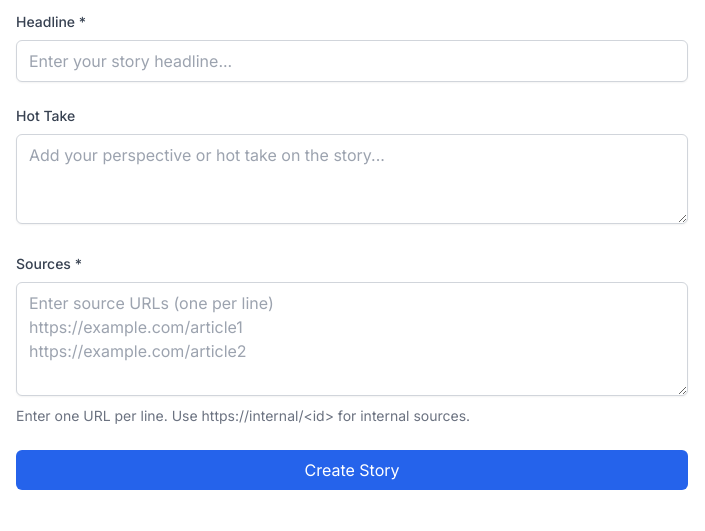
Test: StoryCreationForm › validates source URL format
Replace the text in the text box labelled "Sources *" with "invalid-url" at (352, 339), box [16,282,688,396]
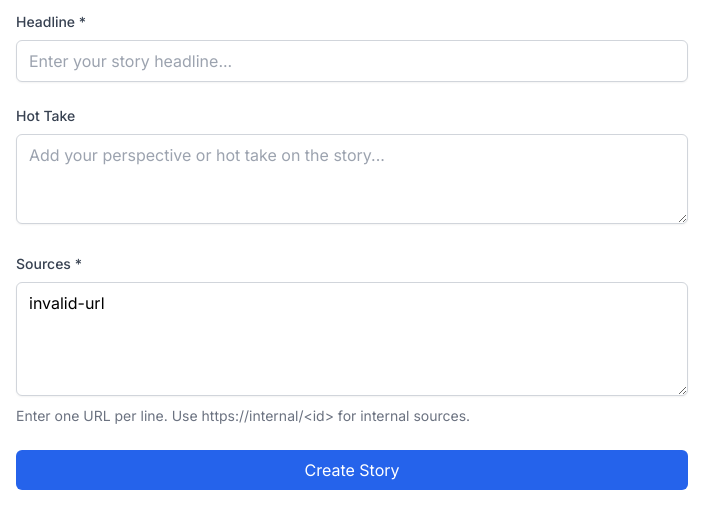
Leave the text box labelled "Sources *", box [16,282,688,396]
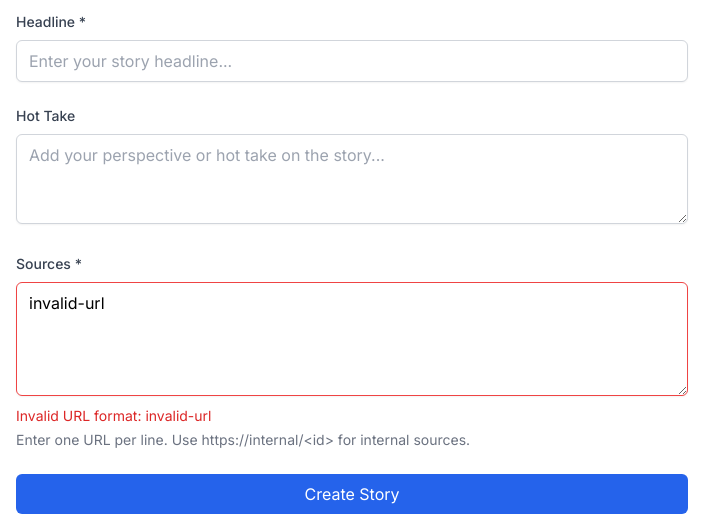
Now the text "Invalid URL format: invalid-url" is shown, box [16,407,212,424]
